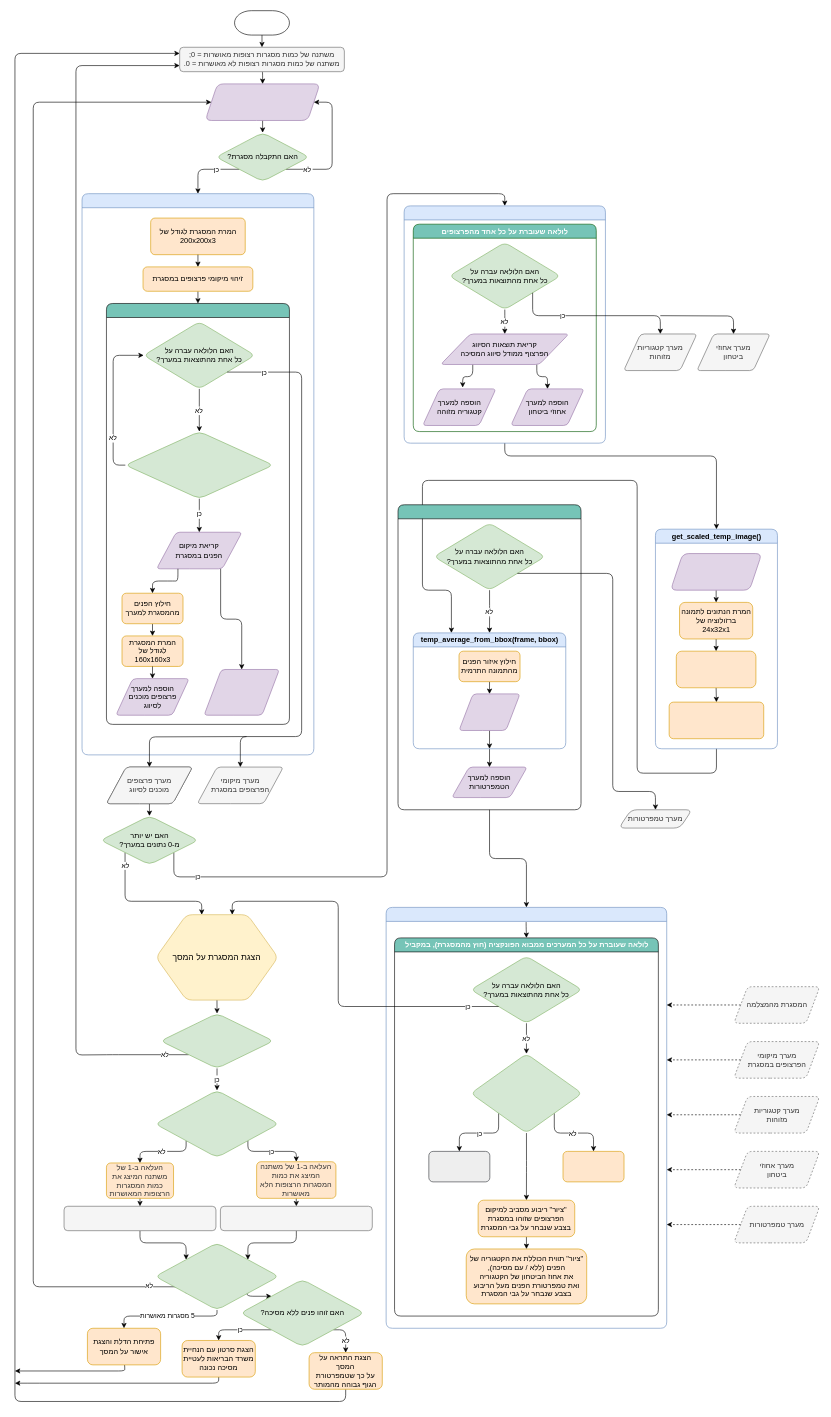
This 831x1417 diagram has some shape labels left out. The box of each missing label's shape, as (x1, y1, x2, y2) in pixels:
detect_faces(frame): (81, 193, 314, 755)
draw_boxes_with_predictions(frame, locs, pred_labels, scores, temps): (386, 907, 667, 1328)
predict(faces): (404, 205, 605, 443)
בחירה בצבע אדום: (562, 1151, 624, 1182)
בחירה בצבע ירוק: (428, 1151, 490, 1182)
האם במסגרת קיימים פרצופים בהם חום הגוף מעל המותר או אין מסיכה?: (155, 1090, 279, 1157)
האם במסגרת קיימים פרצופים?: (160, 1013, 273, 1068)
האם המודל בטוח ביותר מ50% שיש פנים אנושיות בתוצאה הנוכחית?: (125, 431, 273, 499)
האם הפנים מסווגות כפנים עם מסיכה, והטמפרטורה מתחת ל-38 מעלות?: (470, 1053, 582, 1133)
האם נספרו 5 מסגרות רצופות?: (155, 1242, 279, 1310)
הוספה למערך מיקומי הפרצופים במסגרת: (203, 669, 279, 715)
היפוך התמונה (מכיוון שהחיישן פולט את הנתונים בסדר הפוך): (676, 651, 756, 688)
המרת התמונה התרמית לגודל של 480x640x1: (669, 702, 764, 739)
התחלה: (234, 10, 289, 35)
חישוב ממוצע הטמפרטורה באיזור: (458, 693, 520, 730)
לולאה שעוברת על כל אחד ממיקומי הפרצופים: (397, 504, 581, 810)
לולאה שעוברת על כל אחת מהתוצאות: (106, 303, 289, 724)
משתנה של כמות מסגרות רצופות לא מאושרות = 0.: (63, 1206, 216, 1231)
משתנה של כמות מסגרות רצופות מאושרות = 0.: (220, 1206, 372, 1231)
ניסיון לקריאת מסגרת מהמצלמה: (205, 83, 320, 120)
קריאת נתוני טמפרטורה מחיישן תרמי: (670, 553, 762, 590)
